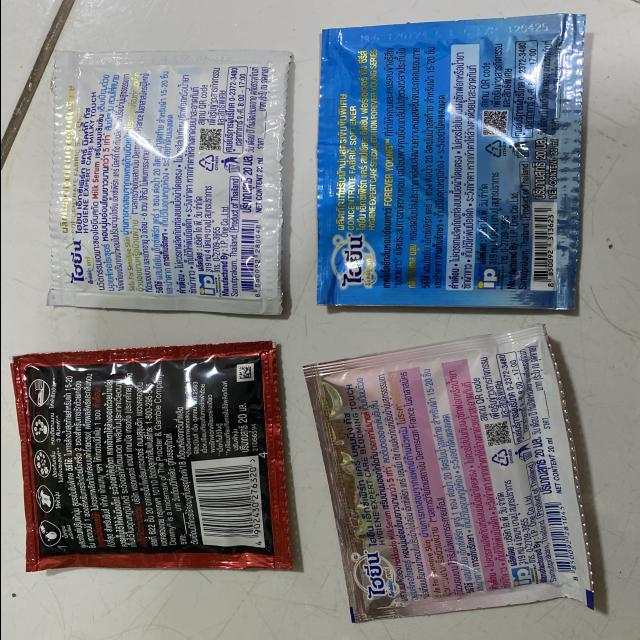plastik: (303, 325, 592, 622), (317, 14, 583, 310), (10, 341, 291, 571), (46, 51, 290, 315)
